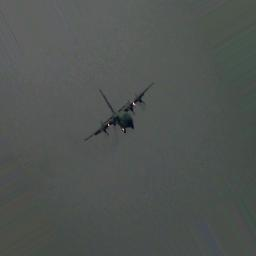Airplane: (81, 80, 154, 143)
